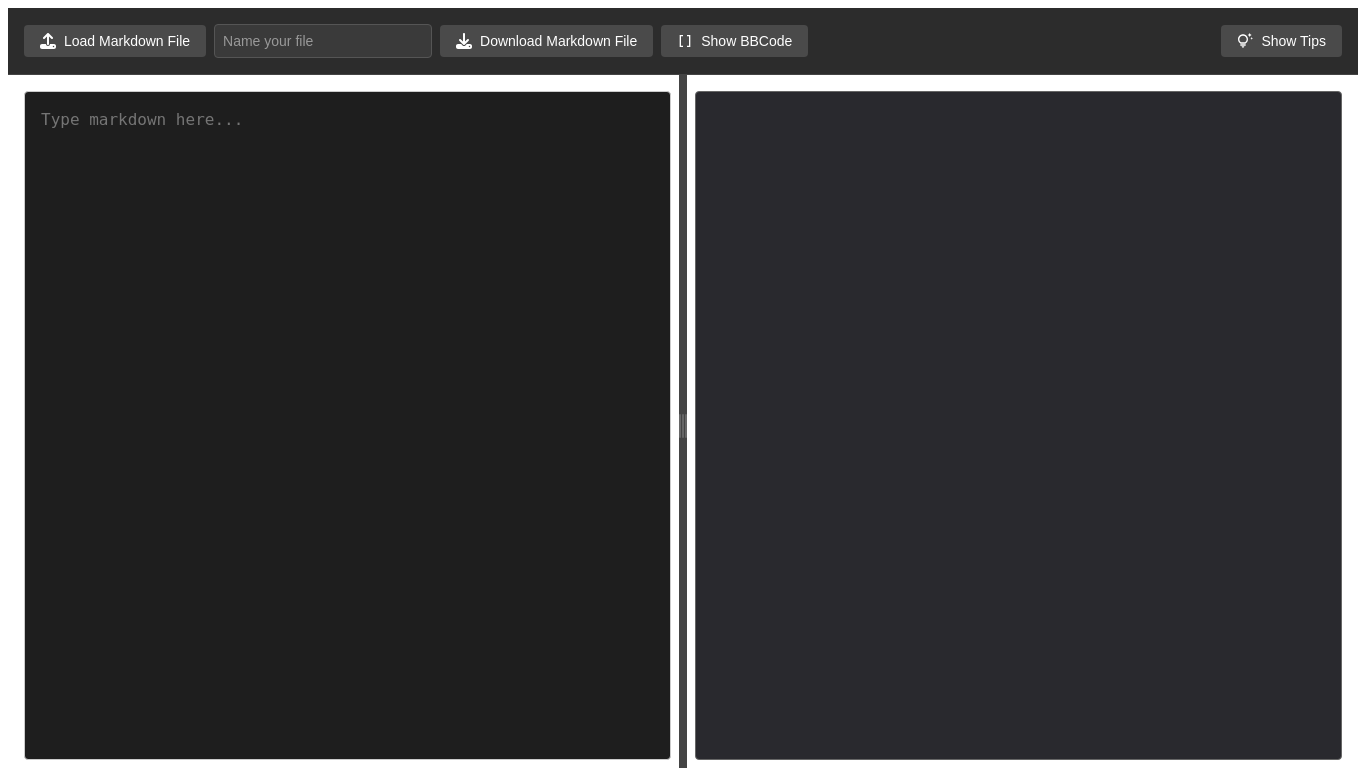
Test: App › should toggle between HTML and BBCode modes
Expected: the element with test id "html-preview" is shown, [695,91,1342,760]
# Find and click the toggle button (should have text "Show BBCode")
Step 1. Click the button "Show BBCode" → x=735, y=41, box [661,25,808,57]
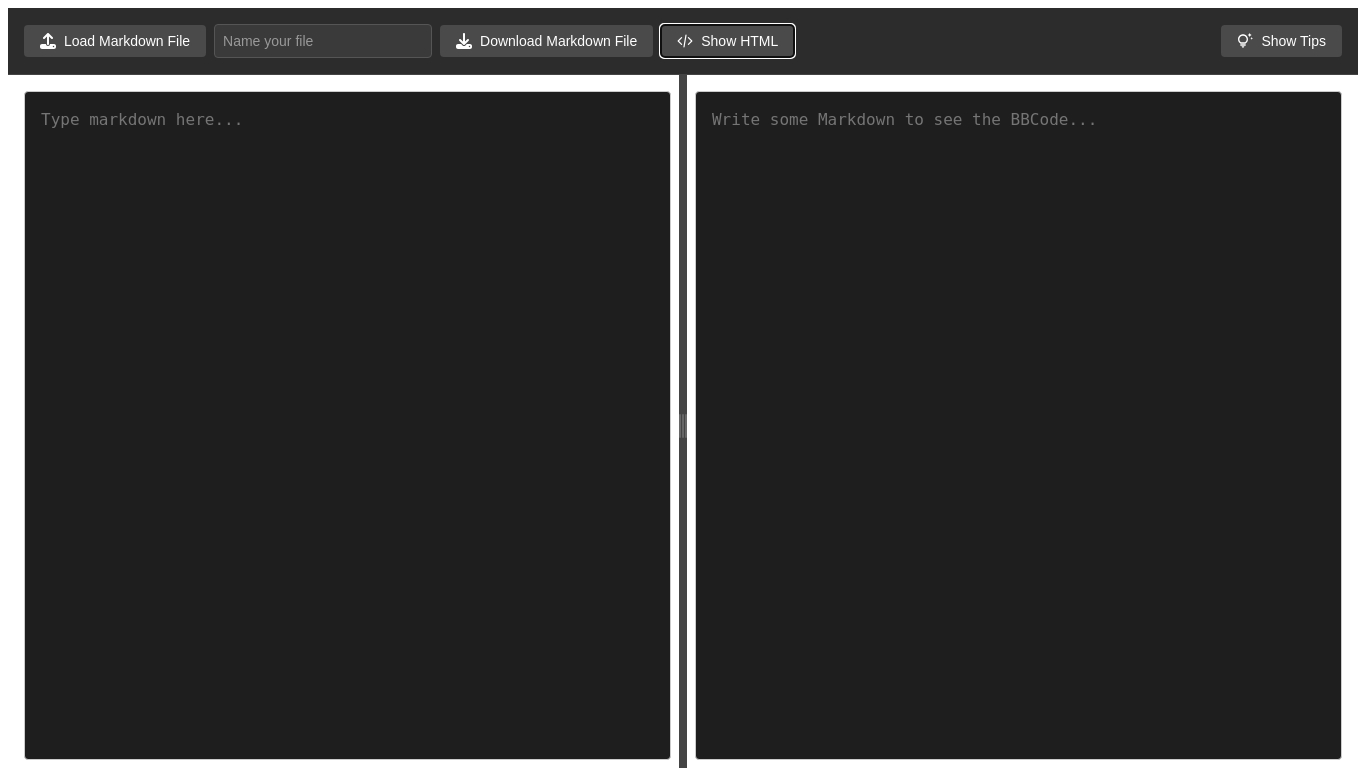
Now the text box with placeholder "Write some Markdown to see the BBCode..." is shown, box [695,91,1342,760]
# Click again to toggle back (now labeled "Show HTML")
Step 2. Click the button "Show HTML" → x=728, y=41, box [661,25,794,57]
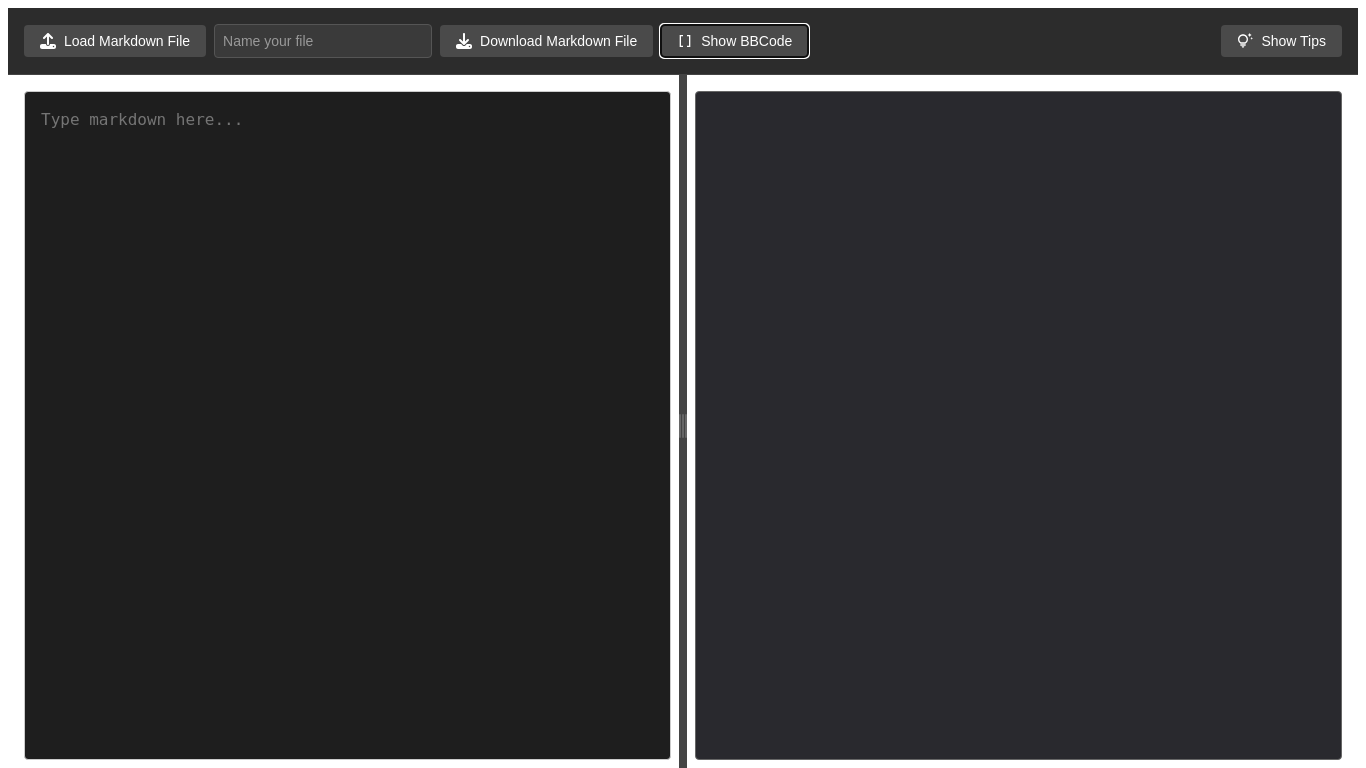
Now the element with test id "html-preview" is shown, box [695,91,1342,760]
